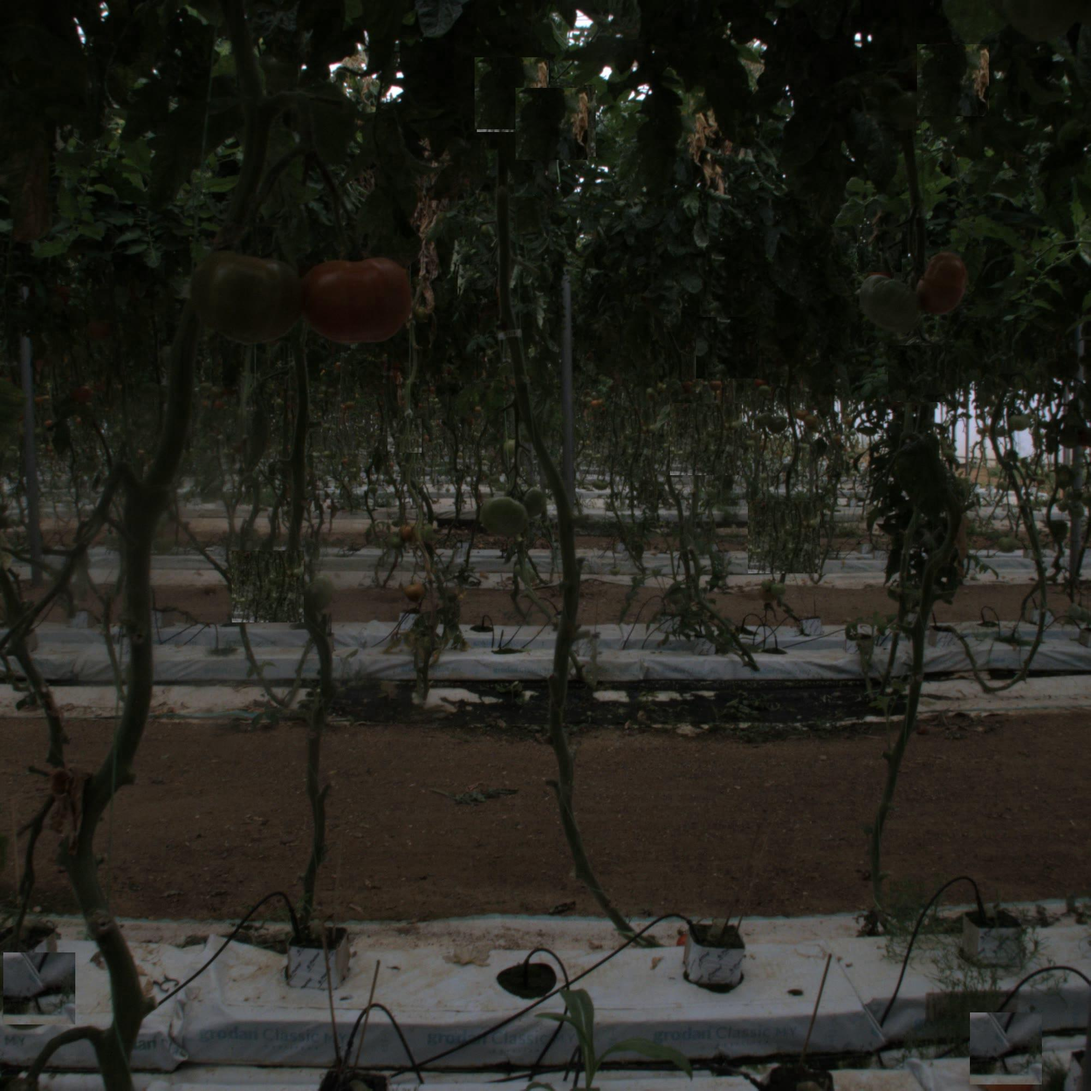fully-ripe: (310, 255, 403, 348), (915, 255, 969, 309)
semi-ripe: (193, 240, 297, 345)
unripe: (859, 274, 920, 335), (483, 494, 527, 538)
